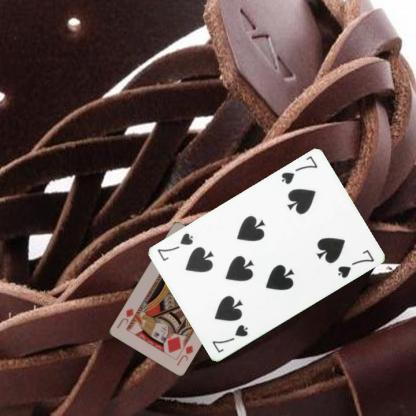7s: (209, 322, 249, 355), (278, 154, 319, 186)
Jd: (174, 343, 195, 367)
